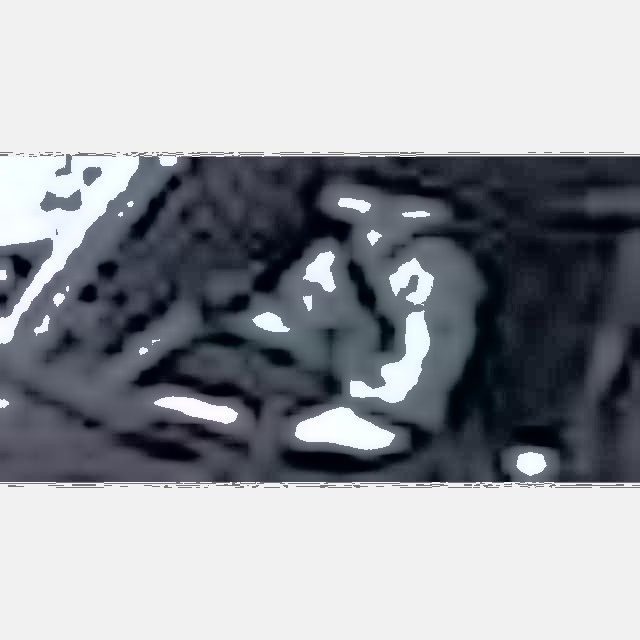pakai: (210, 188, 483, 398)
